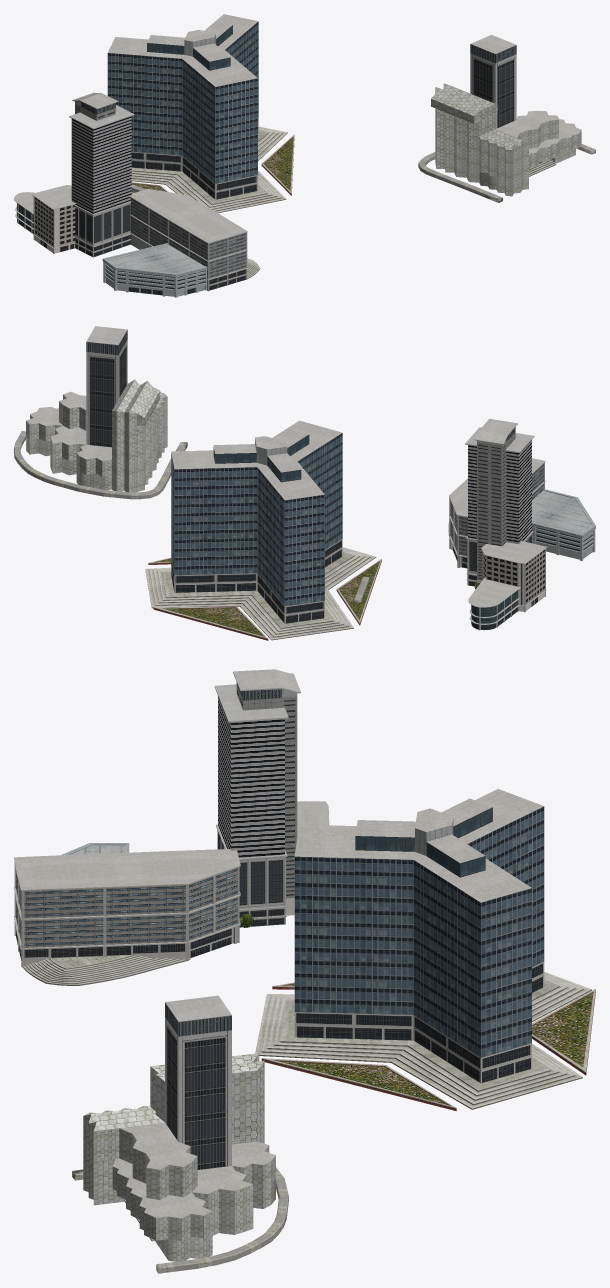
Rendered from Building1.fbx.
3 views of the same model, one above another, from view 1: azimuth 30°, elevation 25°; view 2: azimuth 150°, elevation 25°; view 3: azimuth 270°, elevation 25° (orthographic). The views are drawn at different scales.
Visible parts, largest first — view 1: Building1; view 2: Building1; view 3: Building1.
Boxes of the visible parts, box(x1,y1,x2,y2) form: Building1: box(14, 14, 595, 297); Building1: box(14, 326, 595, 640); Building1: box(14, 669, 595, 1273).
Bounding box in the file's own units: 144 × 38.79 × 88.71.
